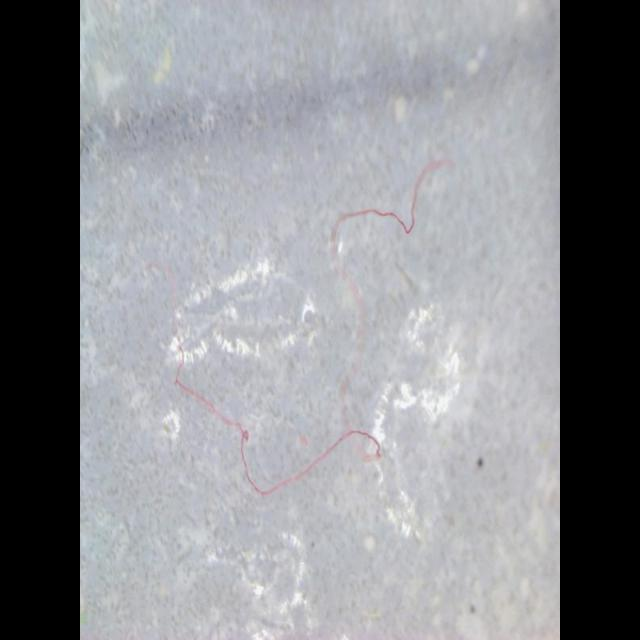Fibre: (164, 158, 456, 500)
